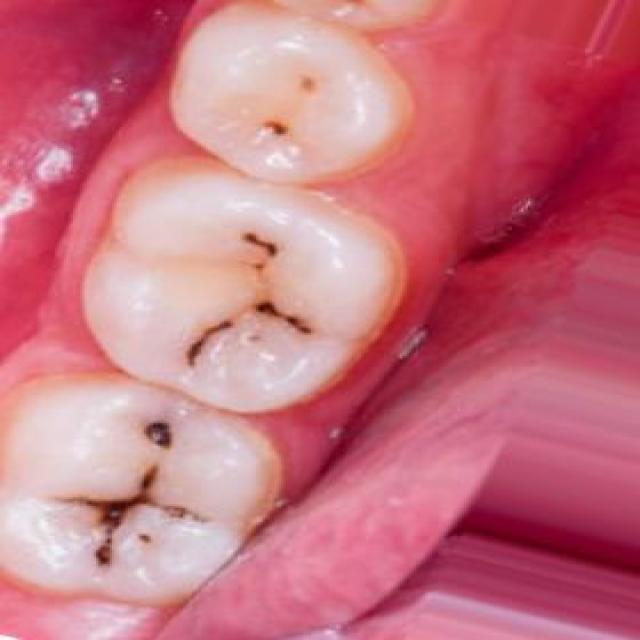caries: (30, 460, 230, 571), (217, 214, 308, 291), (238, 103, 319, 164), (238, 290, 320, 350), (177, 312, 250, 378), (115, 408, 190, 466), (281, 63, 358, 108)
